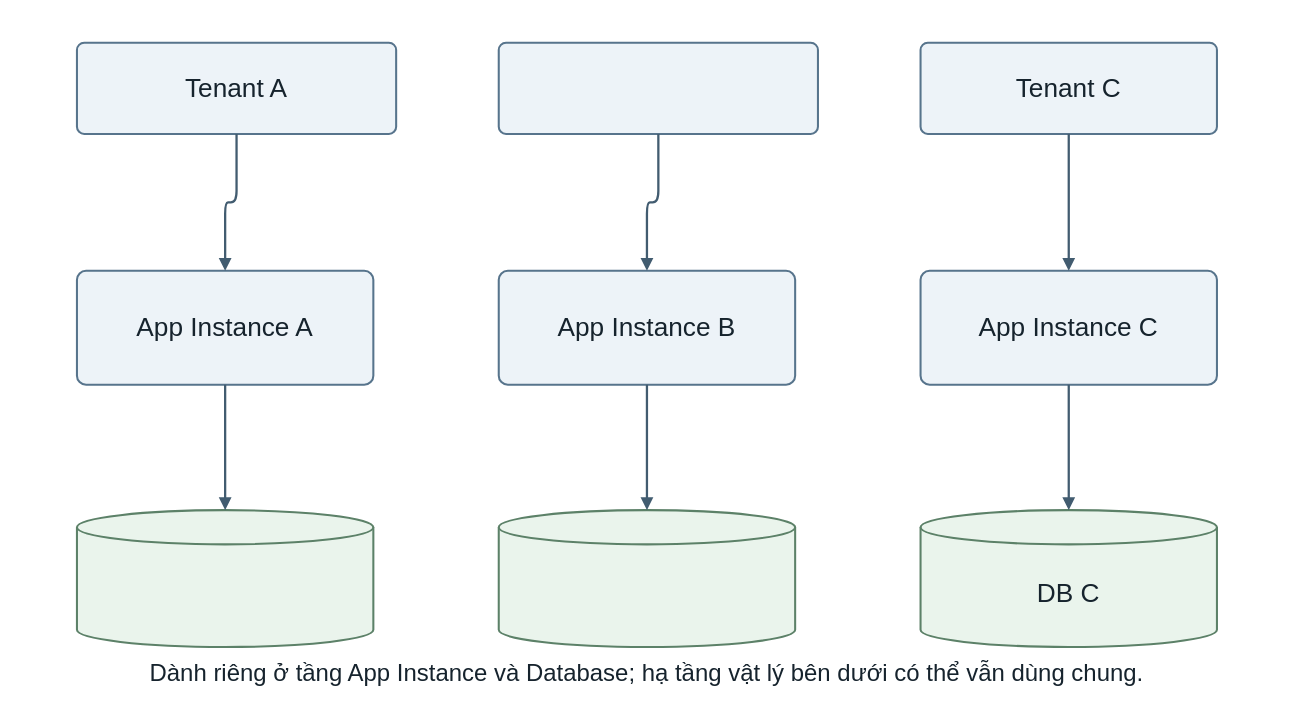
This 1293x723 diagram has some shape labels left out. The shapes that lost their labels are listed below. From the top down, each one's centre as x and y in pixels, then its label:
(657,87): Tenant B
(224,578): DB A
(646,578): DB B
